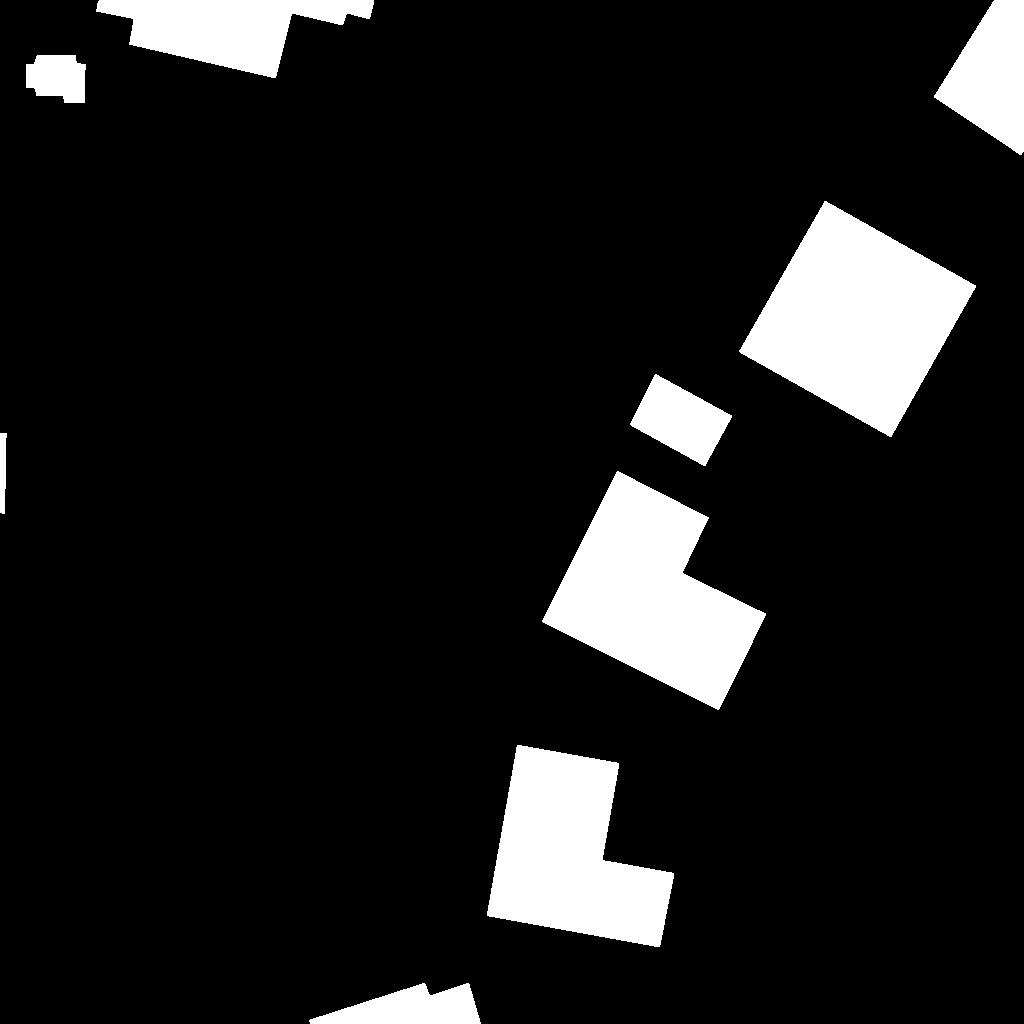building: (739, 201, 977, 438), (542, 471, 767, 711), (487, 745, 675, 948), (96, 0, 375, 79), (934, 0, 1024, 156), (630, 374, 733, 467), (309, 983, 482, 1024), (26, 55, 86, 103), (0, 433, 7, 515)
